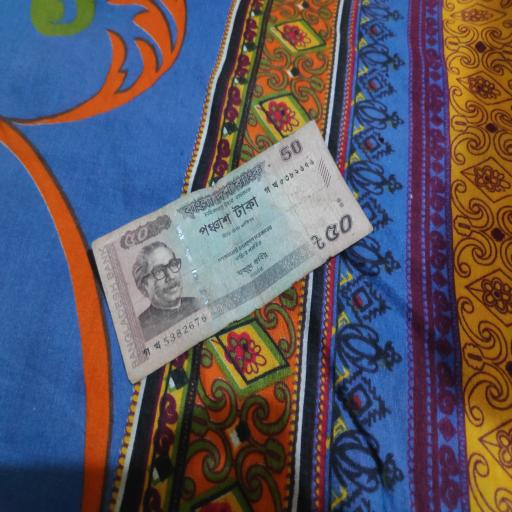50taka: (91, 118, 376, 384)
